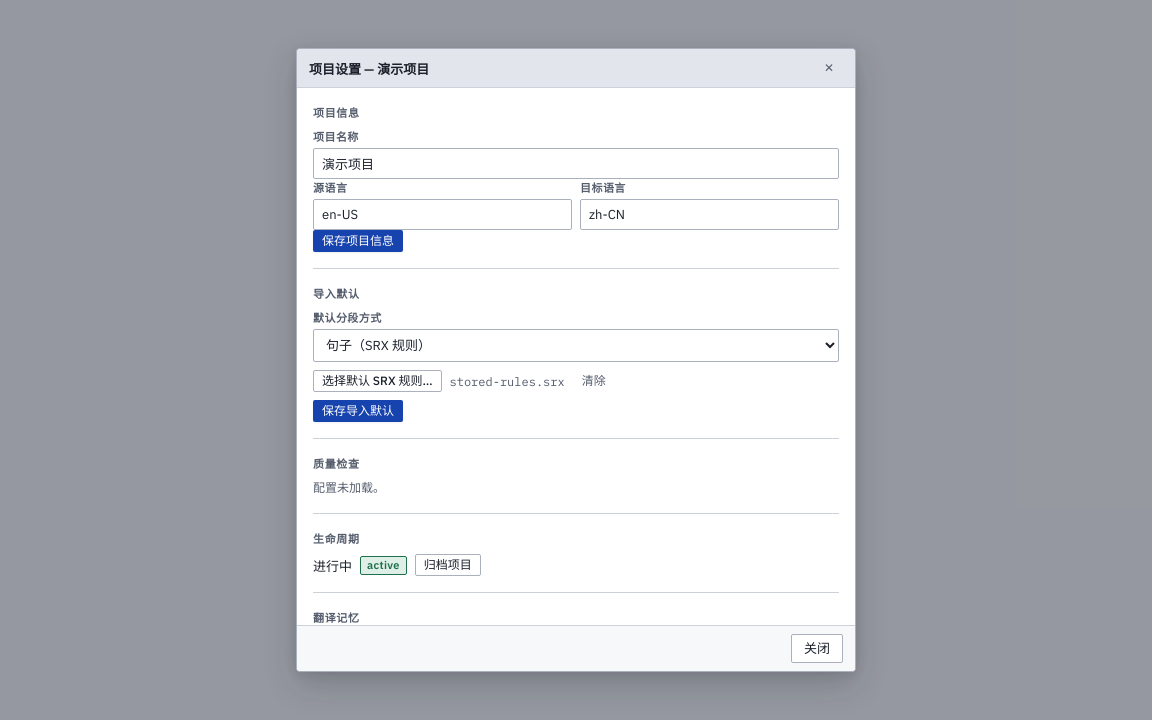
Scenario: ProjectSettingsDialog › clears the stored SRX default through clearSrxPath
This screenshot has width=1152, height=720.
Click the button "清除".
click(594, 381)  # box [573, 370, 615, 392]
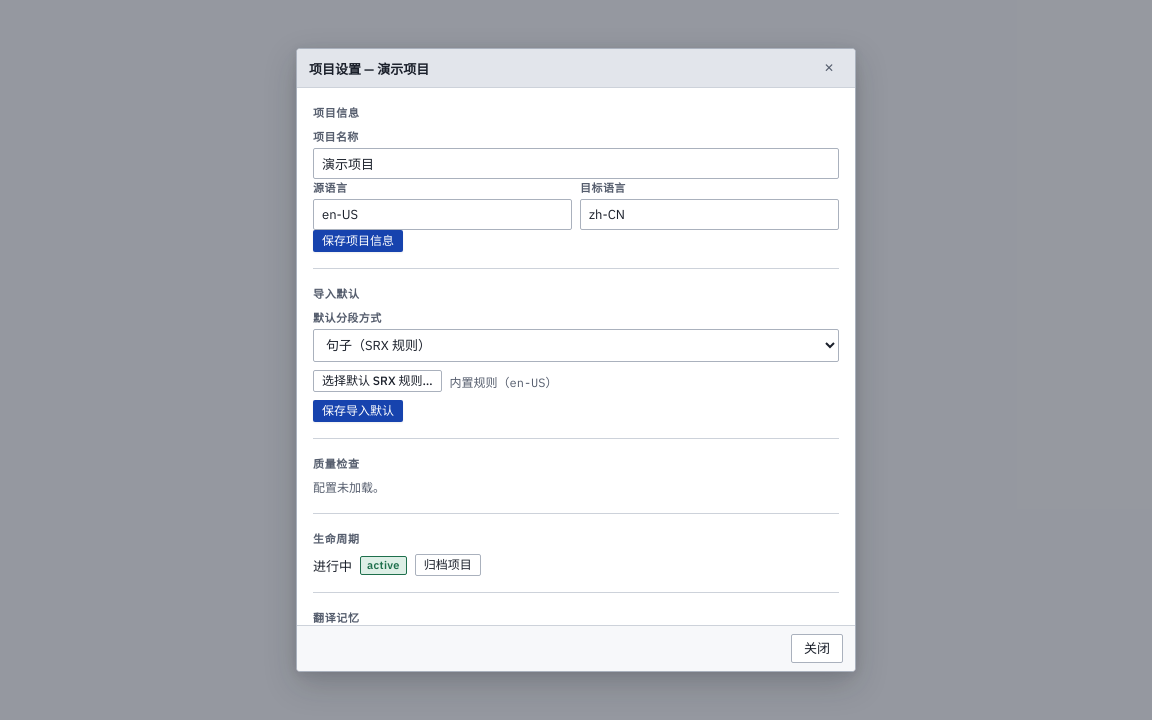
Expected: the text "内置规则（en-US）" is shown, [450, 372, 558, 390]
Click the button "保存导入默认".
click(358, 411)  # box [313, 400, 403, 422]
(page scrolled)
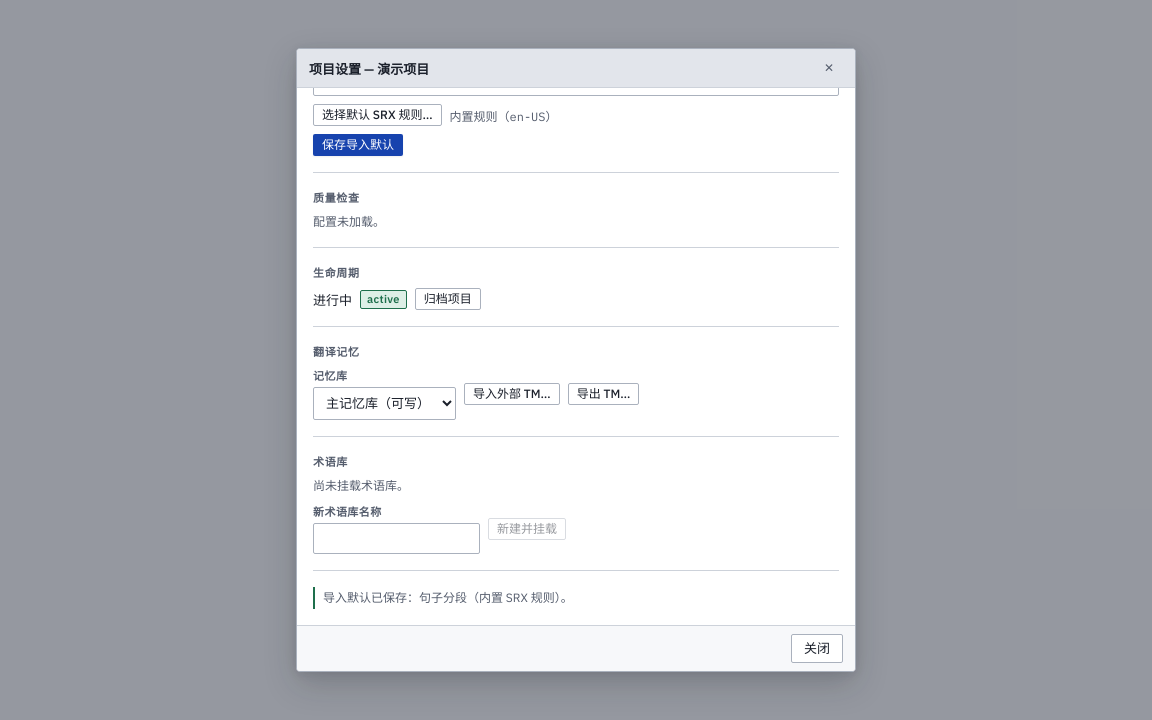
Expected: the text "导入默认已保存：句子分段（内置 SRX 规则）。" is shown, [313, 587, 839, 609]
